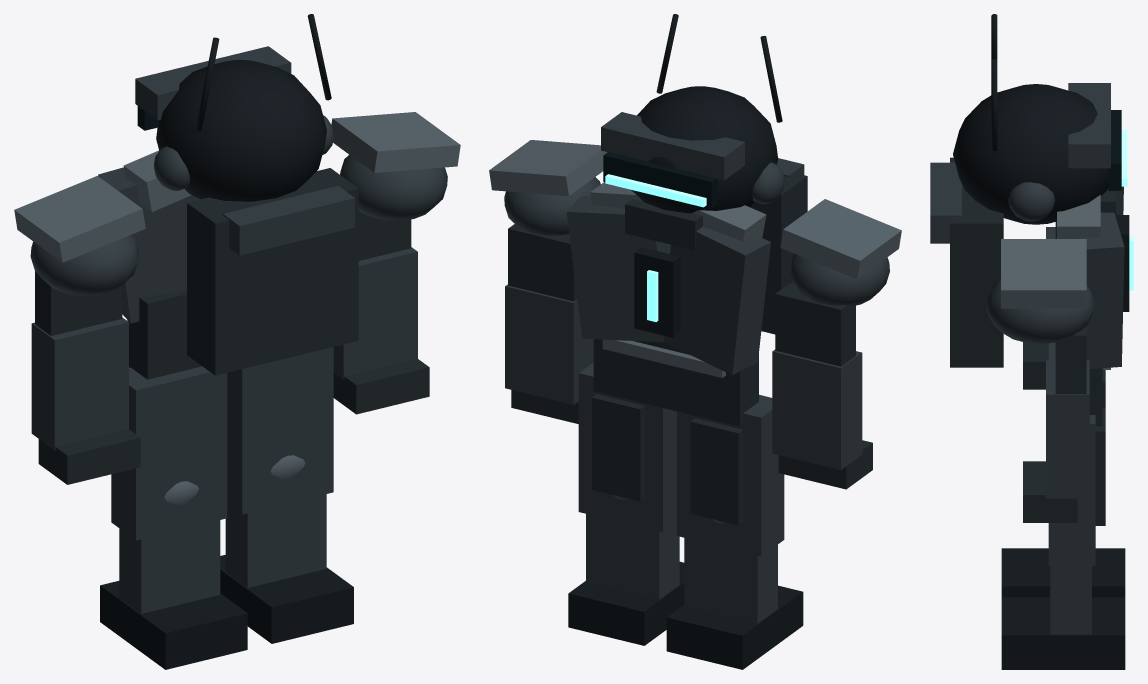
The model's file is SciFiSentryArmor.glb.
3 renders of one model, left to right at view 1: azimuth 30°, elevation 25°; view 2: azimuth 150°, elevation 25°; view 3: azimuth 270°, elevation 25°, orthographic. The views are drawn at different scales.
Visible parts, largest first — view 1: UpperTorso__backpack, Head__helmet-shell, LeftUpperLeg__left-thigh-shell, RightUpperLeg__right-thigh-shell, LeftLowerArm__left-forearm-shell, LeftFoot__left-boot, LeftLowerLeg__left-shin, RightLowerLeg__right-shin, RightLowerArm__right-forearm-shell, LeftUpperArm__left-shoulder-ridge, RightFoot__right-boot, RightUpperArm__right-shoulder-ridge (+13 smaller); view 2: UpperTorso__left-chest, LeftLowerArm__left-forearm-shell, LeftUpperLeg__left-thigh-shell, Head__helmet-shell, UpperTorso__right-chest, RightLowerArm__right-forearm-shell, LowerTorso__abdomen, RightUpperLeg__right-thigh-shell, LeftLowerLeg__left-shin, RightLowerLeg__right-shin, LeftFoot__left-boot, LeftUpperArm__left-shoulder-ridge (+21 smaller); view 3: Head__helmet-shell, UpperTorso__backpack, RightFoot__right-boot, RightUpperArm__right-shoulder-ridge, UpperTorso__right-chest, RightLowerArm__right-forearm-shell, LeftFoot__left-boot, RightUpperArm__right-shoulder, RightUpperLeg__right-thigh-shell, RightLowerLeg__right-shin, Head__helmet-brow, UpperTorso__backpack-cap (+12 smaller).
Boxes of the visible parts, x1,y1,x2,y2 form: UpperTorso__backpack: [187, 168, 358, 375]; Head__helmet-shell: [156, 60, 326, 201]; LeftUpperLeg__left-thigh-shell: [111, 366, 227, 540]; RightUpperLeg__right-thigh-shell: [227, 347, 333, 514]; LeftLowerArm__left-forearm-shell: [31, 317, 128, 450]; LeftFoot__left-boot: [100, 581, 247, 669]; LeftLowerLeg__left-shin: [119, 520, 220, 613]; RightLowerLeg__right-shin: [225, 494, 326, 587]; RightLowerArm__right-forearm-shell: [333, 247, 417, 379]; LeftUpperArm__left-shoulder-ridge: [14, 176, 145, 262]; RightFoot__right-boot: [220, 555, 353, 643]; RightUpperArm__right-shoulder-ridge: [331, 112, 460, 172]; UpperTorso__left-chest: [664, 226, 770, 375]; LeftLowerArm__left-forearm-shell: [772, 349, 862, 469]; LeftUpperLeg__left-thigh-shell: [677, 394, 784, 556]; Head__helmet-shell: [631, 86, 778, 213]; UpperTorso__right-chest: [566, 196, 670, 342]; RightLowerArm__right-forearm-shell: [505, 284, 593, 404]; LowerTorso__abdomen: [593, 339, 758, 426]; RightUpperLeg__right-thigh-shell: [578, 362, 676, 532]; LeftLowerLeg__left-shin: [684, 538, 777, 623]; RightLowerLeg__right-shin: [586, 514, 679, 599]; LeftFoot__left-boot: [666, 585, 803, 669]; LeftUpperArm__left-shoulder-ridge: [780, 199, 901, 279]; Head__helmet-shell: [953, 84, 1114, 224]; UpperTorso__backpack: [950, 157, 1003, 367]; RightFoot__right-boot: [1001, 597, 1125, 669]; RightUpperArm__right-shoulder-ridge: [1001, 239, 1086, 308]; UpperTorso__right-chest: [1079, 212, 1124, 368]; RightLowerArm__right-forearm-shell: [1046, 360, 1089, 498]; LeftFoot__left-boot: [1001, 548, 1125, 597]; RightUpperArm__right-shoulder: [986, 279, 1094, 343]; RightUpperLeg__right-thigh-shell: [1048, 415, 1095, 565]; RightLowerLeg__right-shin: [1050, 566, 1091, 634]; Head__helmet-brow: [1068, 83, 1110, 168]; UpperTorso__backpack-cap: [930, 162, 961, 243].
Bounding box in the file's own units: 4.01 × 5.94 × 1.85.
